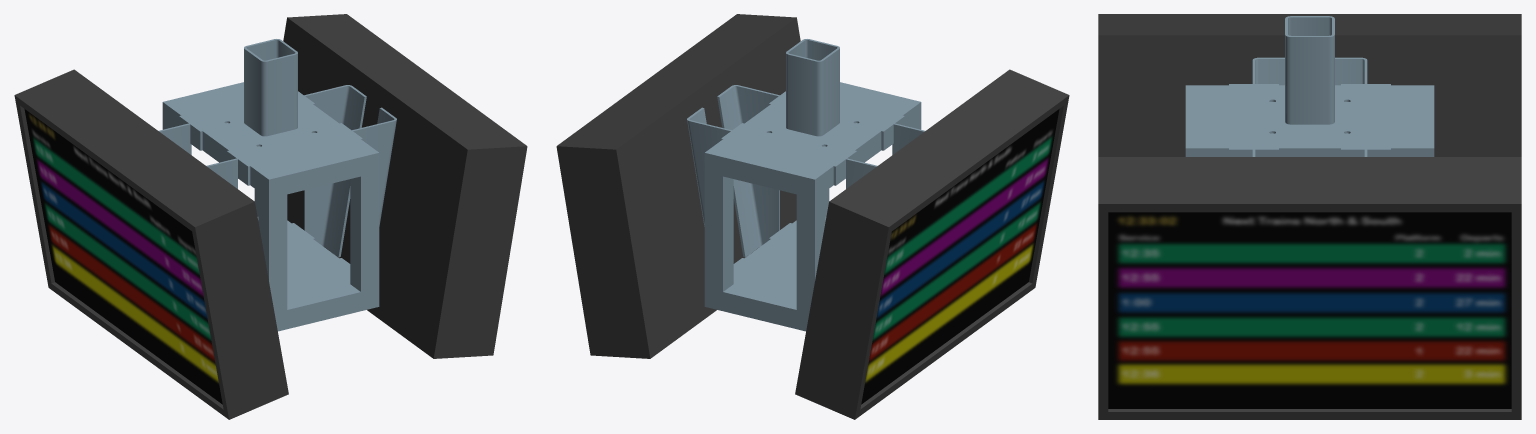
Rendered from Platform_TIP.fbx.
3 renders of one model, left to right at view 1: azimuth 30°, elevation 25°; view 2: azimuth 150°, elevation 25°; view 3: azimuth 270°, elevation 25°, orthographic. The views are drawn at different scales.
Visible parts, largest first — view 1: Platform_TIP; view 2: Platform_TIP; view 3: Platform_TIP.
Boxes of the visible parts, x1,y1,x2,y2 form: Platform_TIP: [14, 14, 527, 419]; Platform_TIP: [556, 14, 1069, 419]; Platform_TIP: [1098, 14, 1521, 419].
Size of the model in its own units: 0.9033 by 0.7045 by 0.85.
